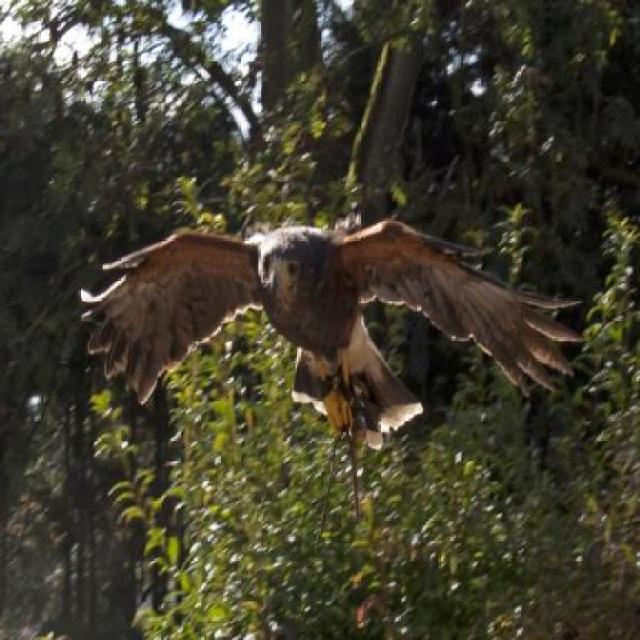Eagle: (70, 219, 573, 449)
